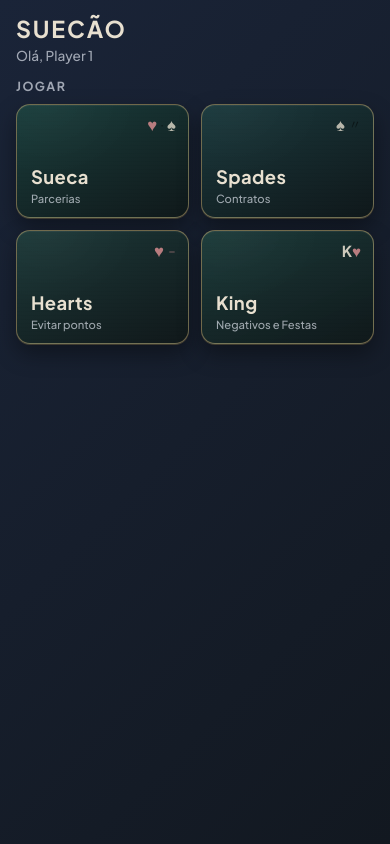
Test: HomeDashboard (REL-HOME-01) › King opens mode sheet; options go to Setup with presets; Cancel closes
Click the list item with class "home-tile--king": coordinates (288, 287) 201,230 -> 374,344
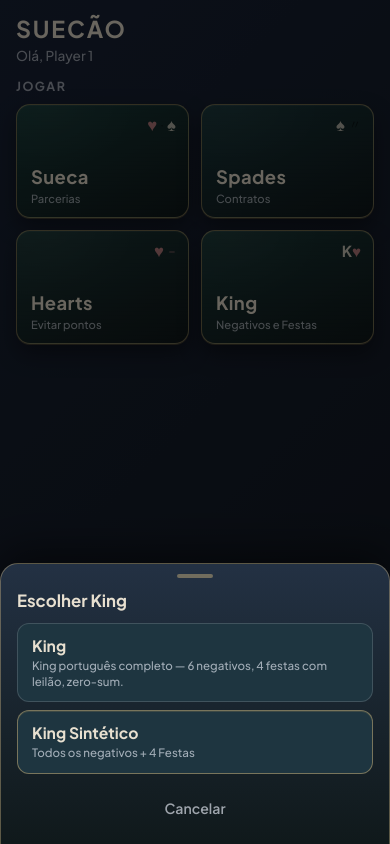
Expected: the dialog with class "home-king-sheet" is shown, 0,563 -> 389,843
Click the 1st button with class "home-mode-option": coordinates (195, 663) 17,623 -> 373,702
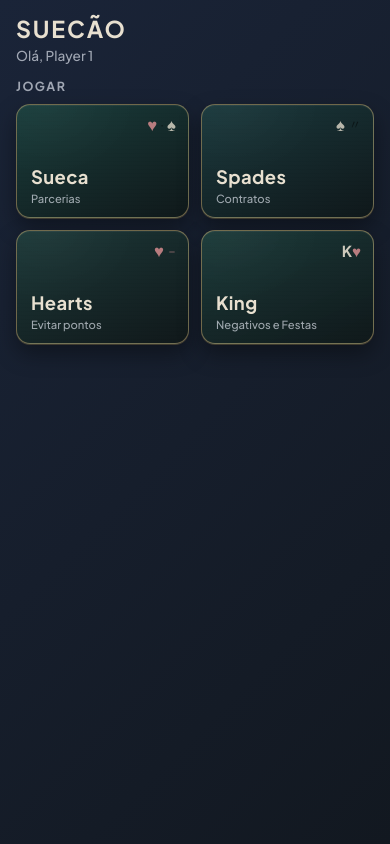
Expected: the dialog with class "home-king-sheet" is gone
Click the list item with class "home-tile--king": coordinates (288, 287) 201,230 -> 374,344
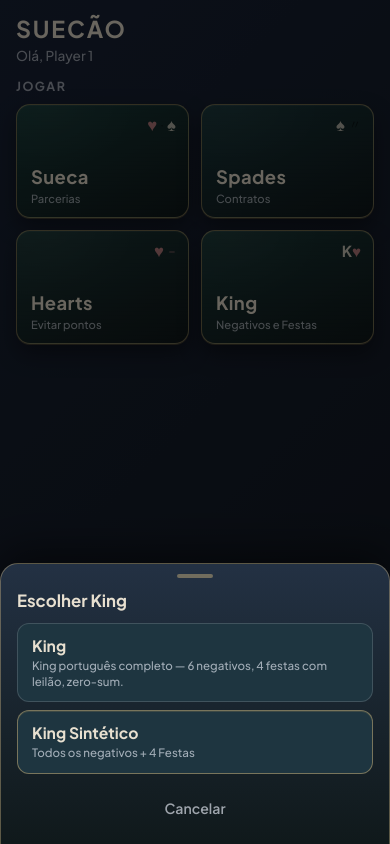
Click the button with class "home-mode-option" that starts with "King Sintético": coordinates (85, 733) 17,710 -> 373,774
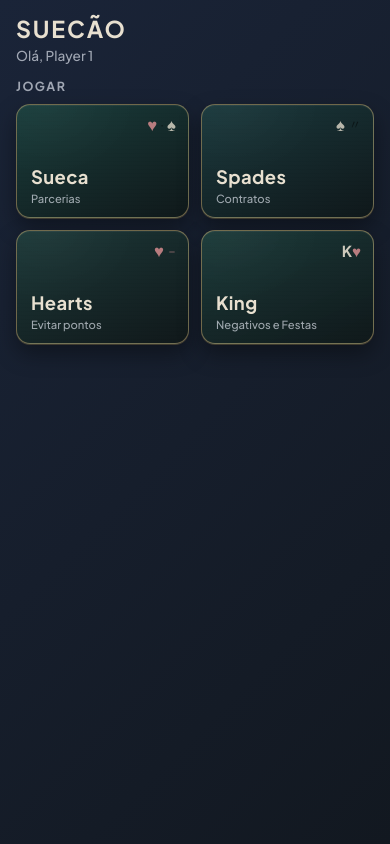
Click the list item with class "home-tile--king": coordinates (288, 287) 201,230 -> 374,344
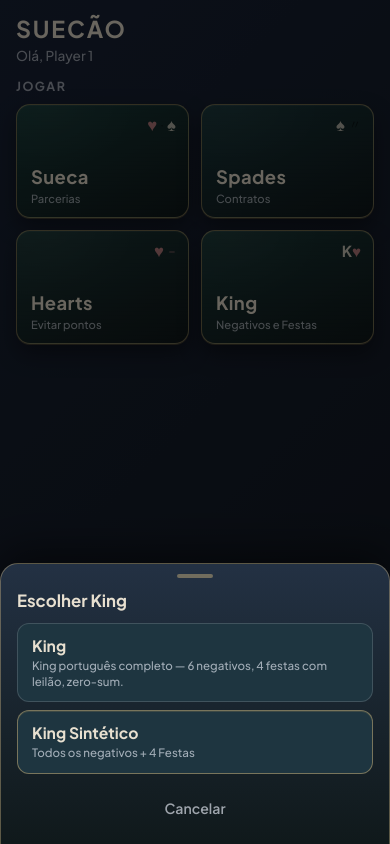
Click the button with class "home-sheet-cancel": coordinates (195, 808) 17,786 -> 373,830
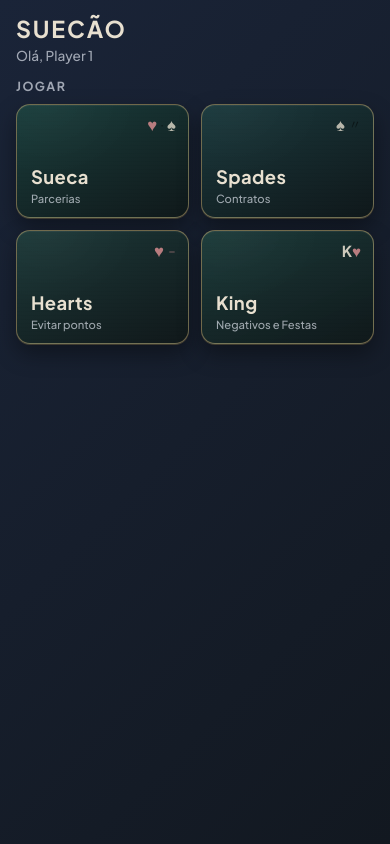
Expected: the dialog with class "home-king-sheet" is gone
